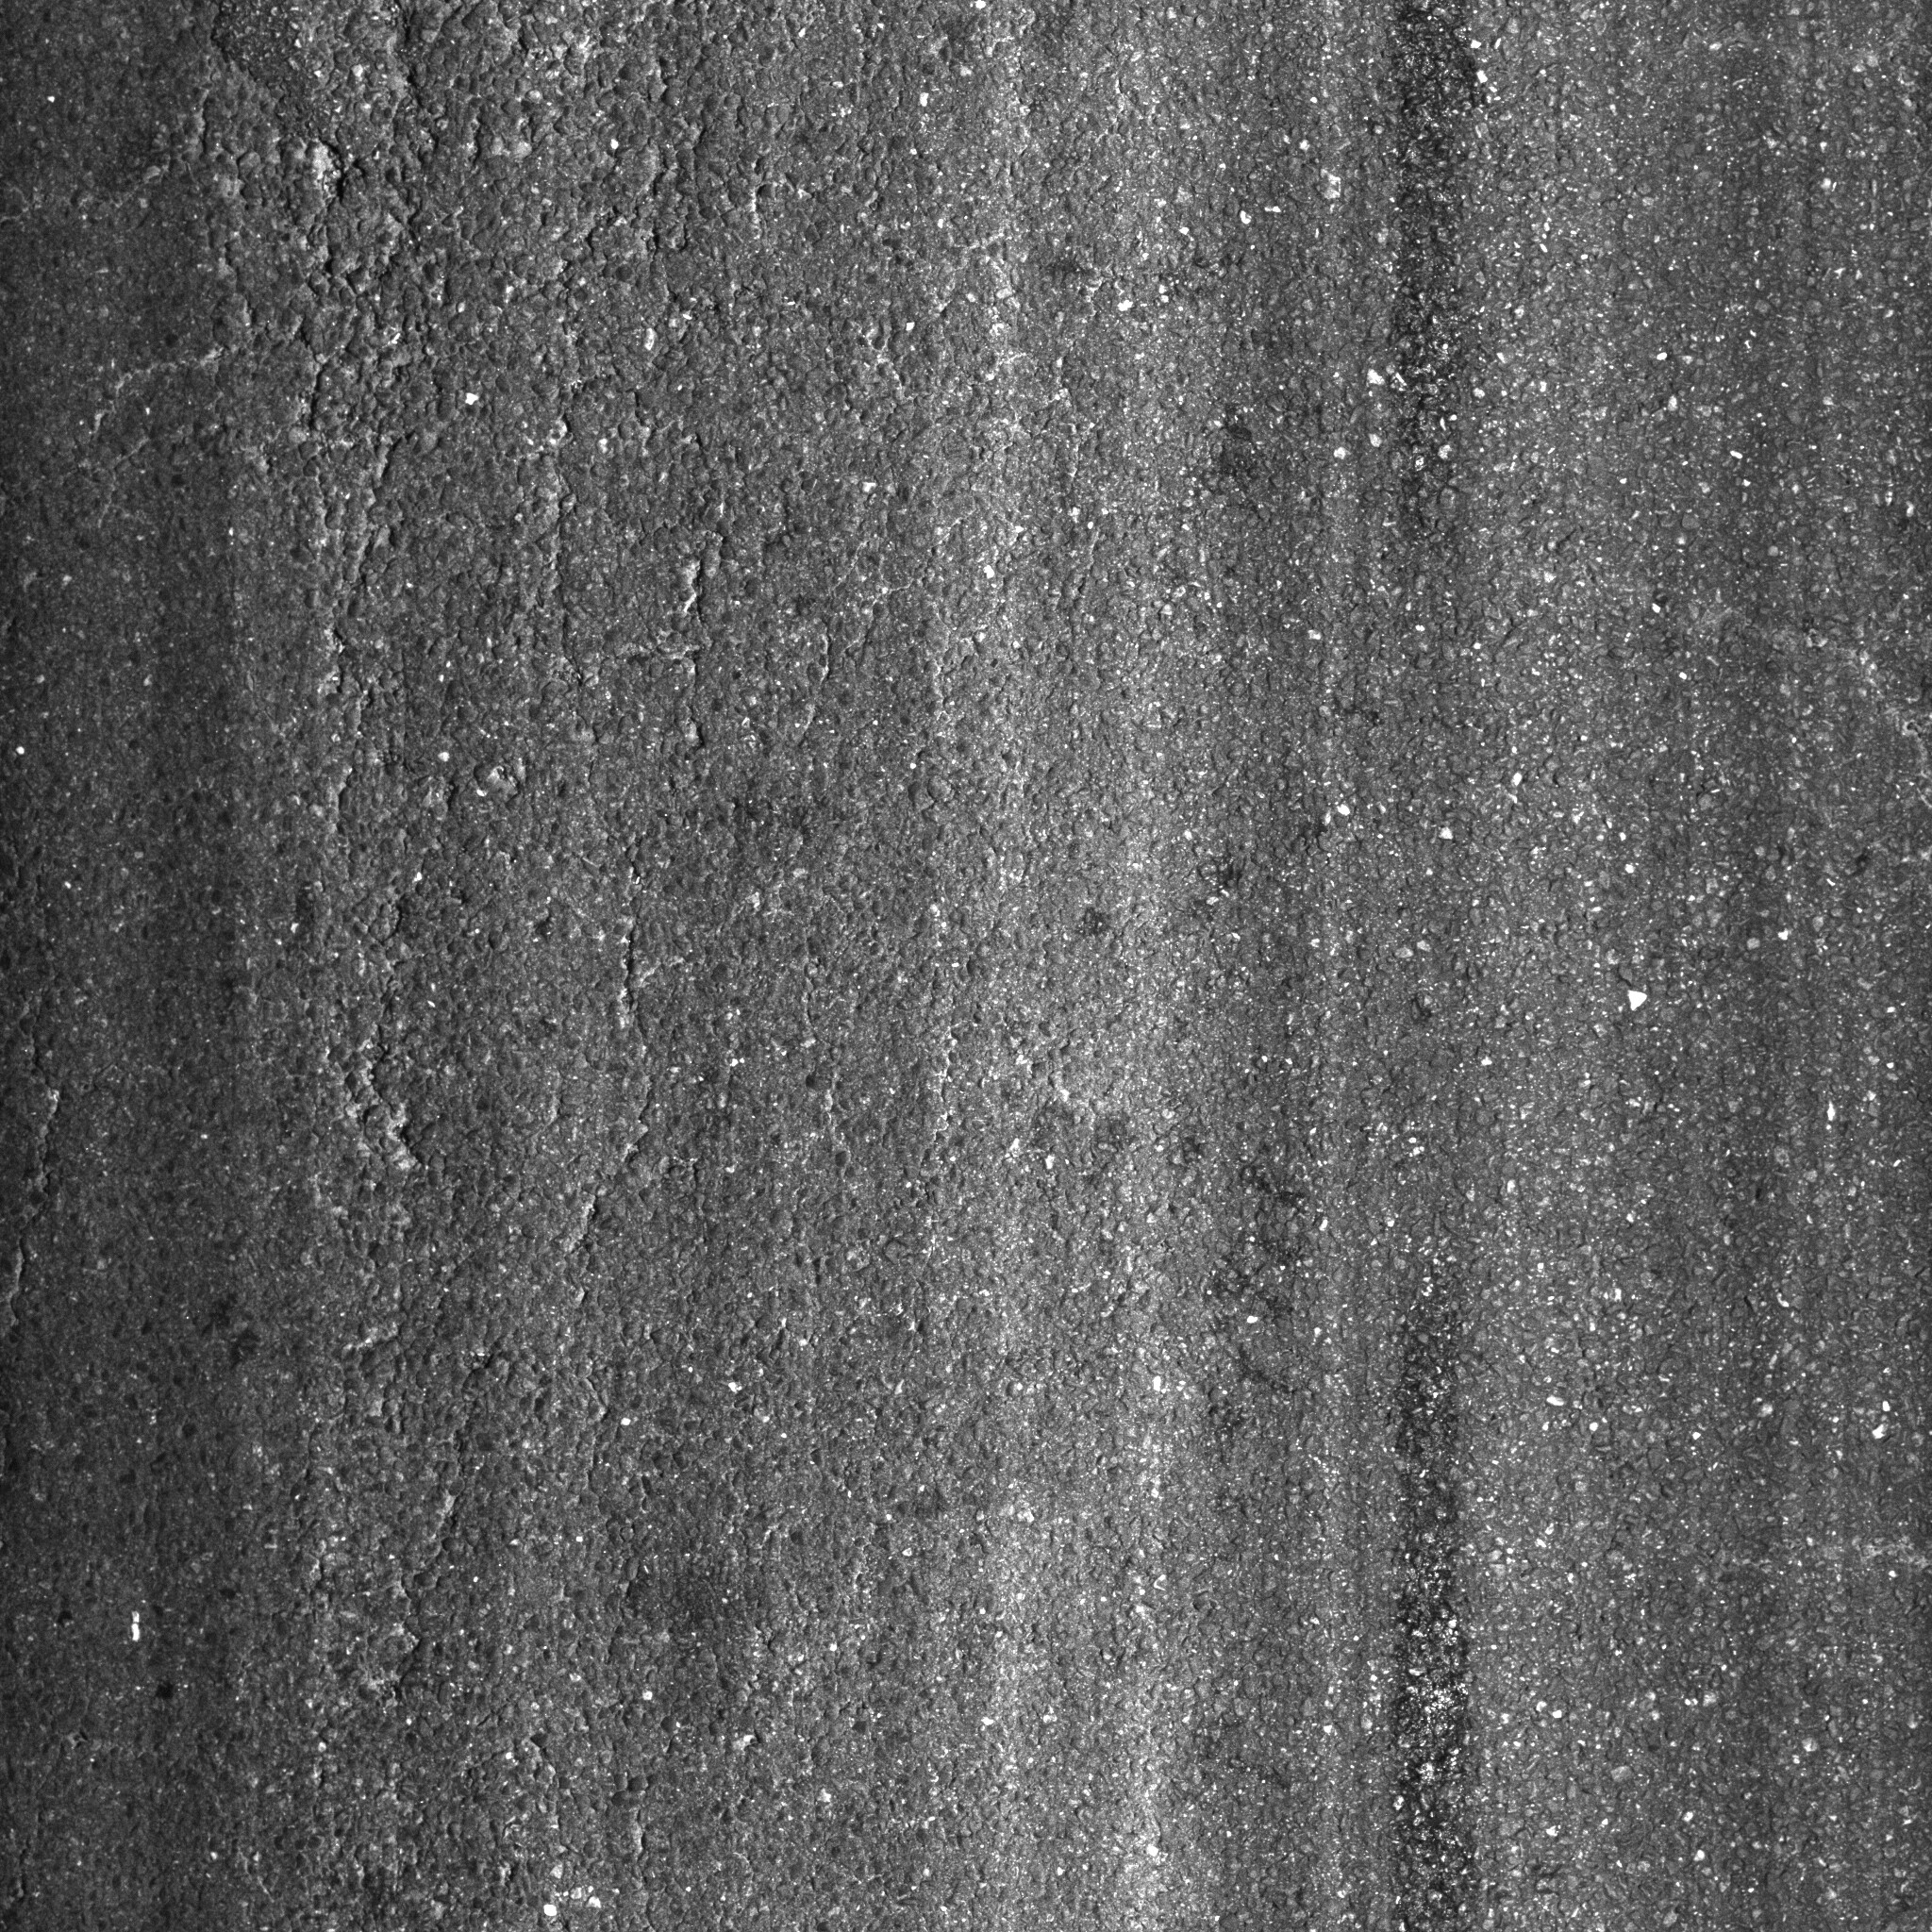alligator: (111, 9, 959, 1925)
